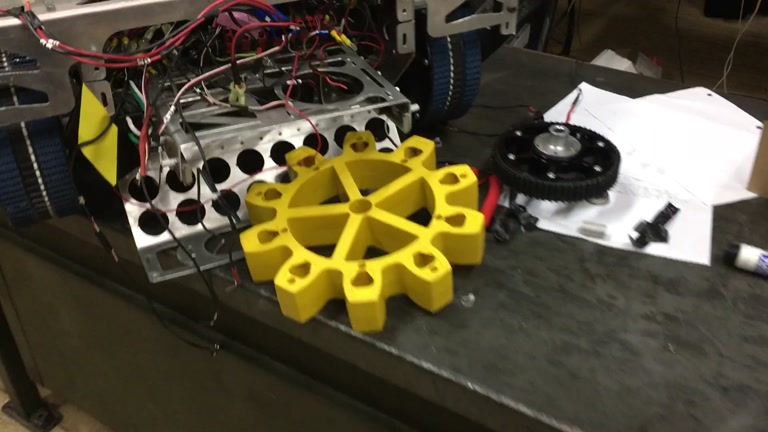gear: (239, 129, 485, 333)
